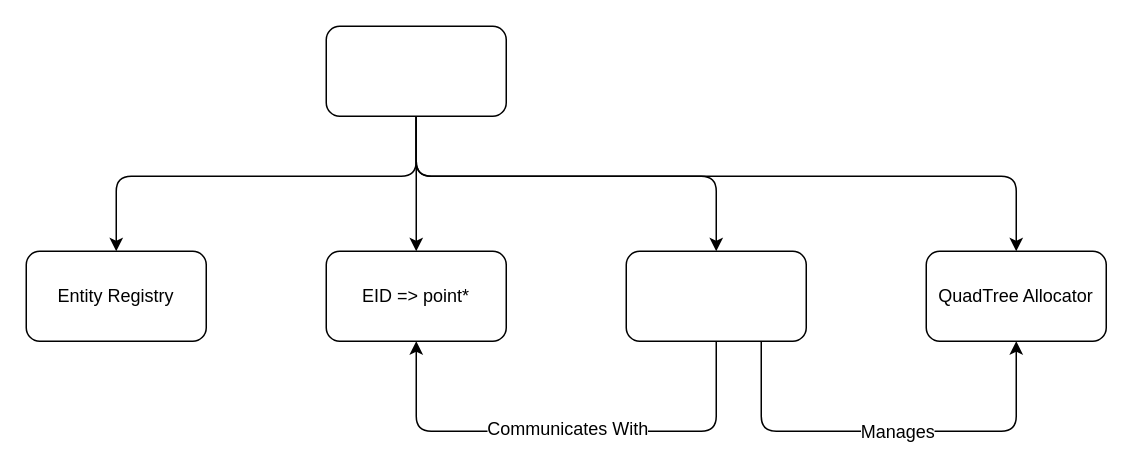
Some shapes in this 1133 by 470 pixel diagram are drawn without their labels. Each missing label, with the centre of its shape:
QuadTree: pixel 715 295
Scene Manager: pixel 415 70
